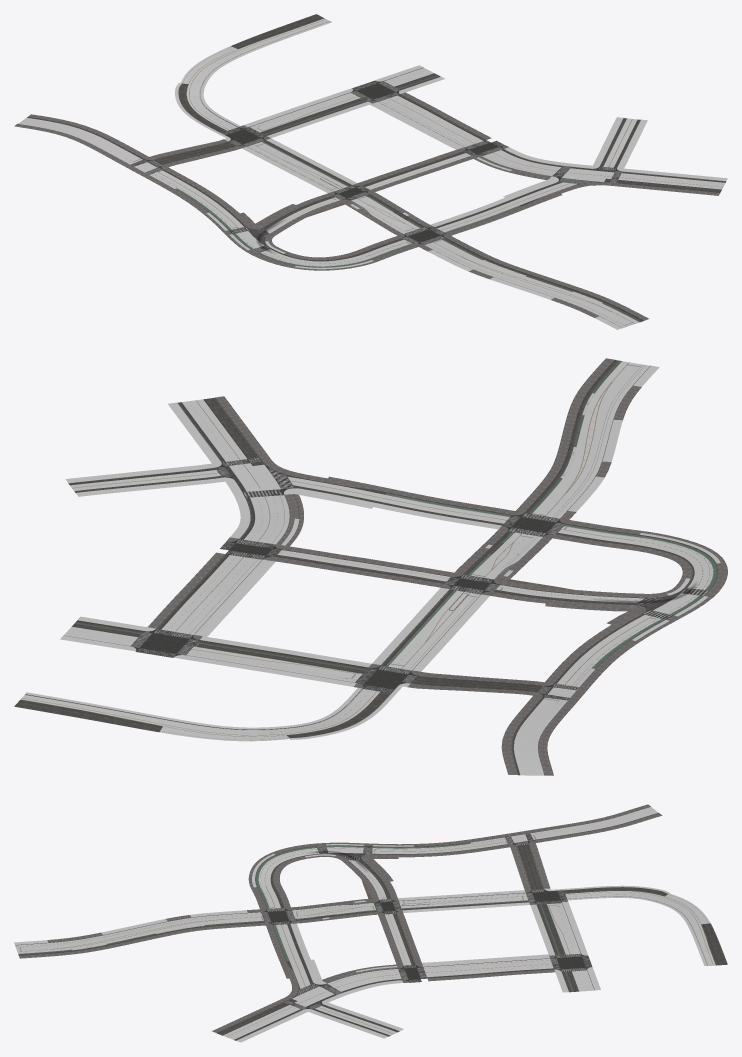
3 renders of one model, top to bottom at view 1: azimuth 30°, elevation 25°; view 2: azimuth 150°, elevation 25°; view 3: azimuth 270°, elevation 25°, orthographic. The views are drawn at different scales.
Visible parts, largest first — view 1: Road.002, Road.008, Road.009, Road.006, Road.005, Road.010, Road.007, Road.011, Road.001, Road.003; view 2: Road.002, Road.008, Road.009, Road.005, Road.006, Road.010, Road.001, Road.011, Road.007, Road.003; view 3: Road.002, Road.008, Road.009, Road.006, Road.005, Road.010, Road.007, Road.001, Road.011, Road.003.
Boxes of the visible parts, x1,y1,x2,y2 form: Road.002: (14,21,719,327); Road.008: (20,71,639,327); Road.009: (18,18,725,233); Road.006: (27,14,726,321); Road.005: (175,21,727,329); Road.010: (131,81,621,253); Road.007: (175,75,640,322); Road.011: (146,81,619,243); Road.001: (133,18,722,325); Road.003: (206,157,511,269); Road.002: (25,358,727,775); Road.008: (69,361,713,775); Road.009: (21,399,594,775); Road.005: (25,365,659,739); Road.006: (14,360,694,775); Road.010: (131,457,708,700); Road.001: (17,361,713,740); Road.011: (134,461,562,695); Road.007: (74,361,717,670); Road.003: (281,518,720,640); Road.002: (15,804,707,1033); Road.008: (15,808,658,996); Road.009: (223,807,715,1039); Road.006: (18,813,727,1040); Road.005: (14,885,707,1042); Road.010: (261,833,592,1009); Road.007: (18,842,573,991); Road.001: (16,835,722,1036); Road.011: (262,841,589,1008); Road.003: (252,844,413,972).
Size of the model in its own units: 444 by 17.12 by 594.
